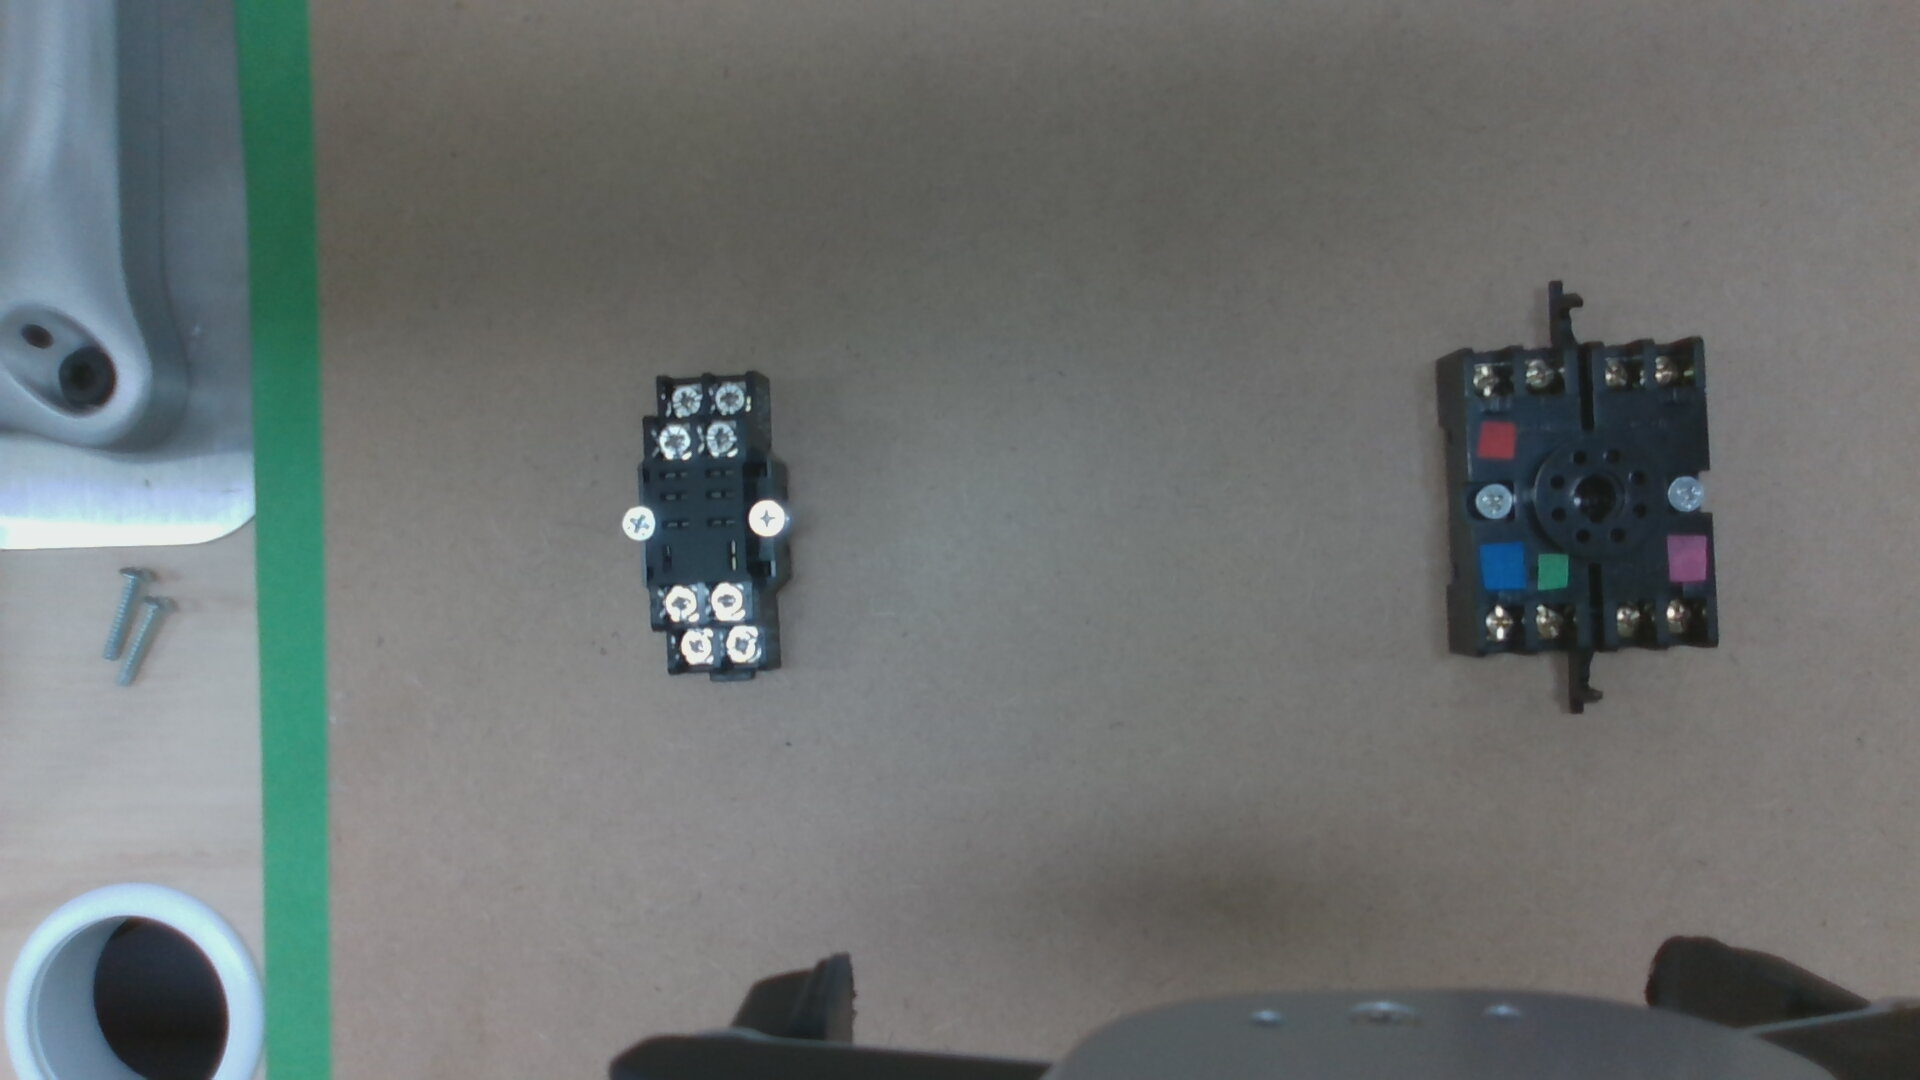relay 3: (711, 384, 742, 411)
relay 4: (667, 386, 699, 413)
relay 5: (723, 629, 758, 661)
relay 6: (678, 632, 711, 665)
relay 7: (709, 585, 742, 617)
relay 8: (662, 588, 694, 620)
